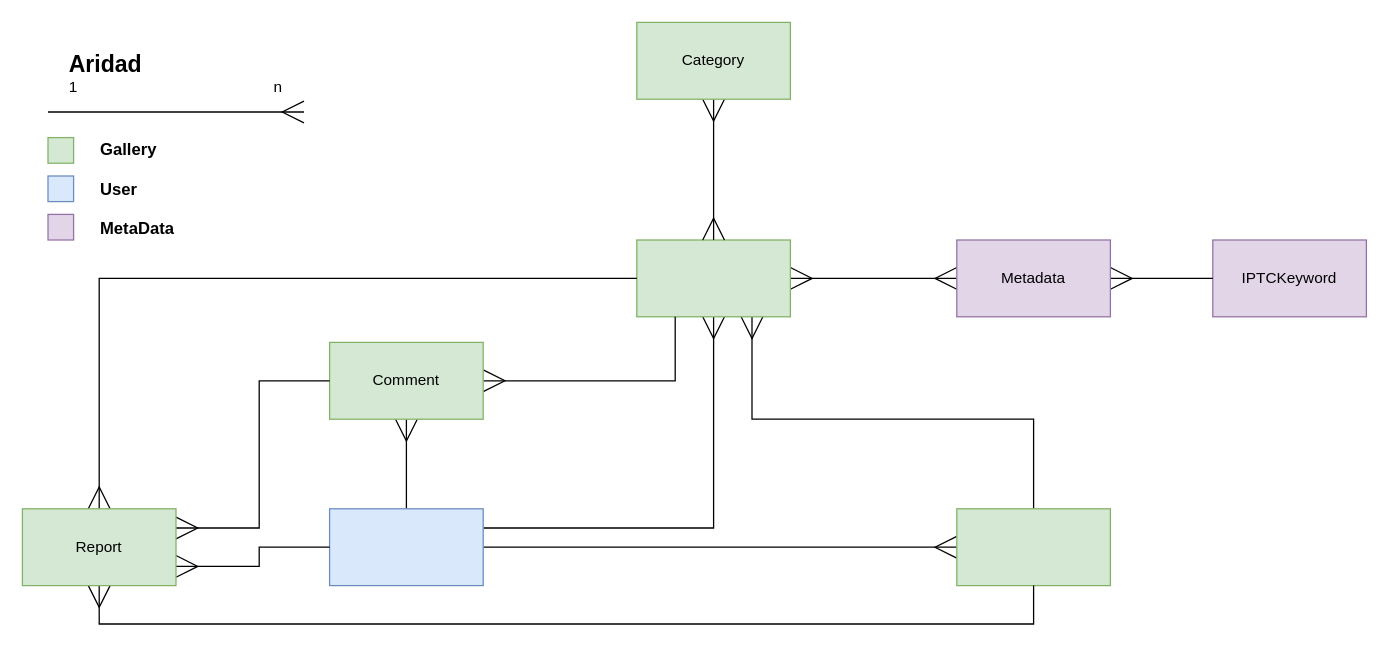
This 1389x668 diagram has some shape labels left out. The shapes that lost their labels are listed below. From the top down, each one's box as (x1, y1, x2, y2) in pixels, then its label:
(636, 239, 790, 317): Photo
(328, 508, 483, 586): User
(956, 508, 1110, 586): Album
